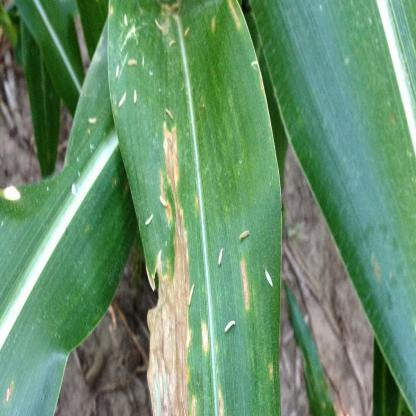corn gray leaf spot: (104, 6, 290, 415)
